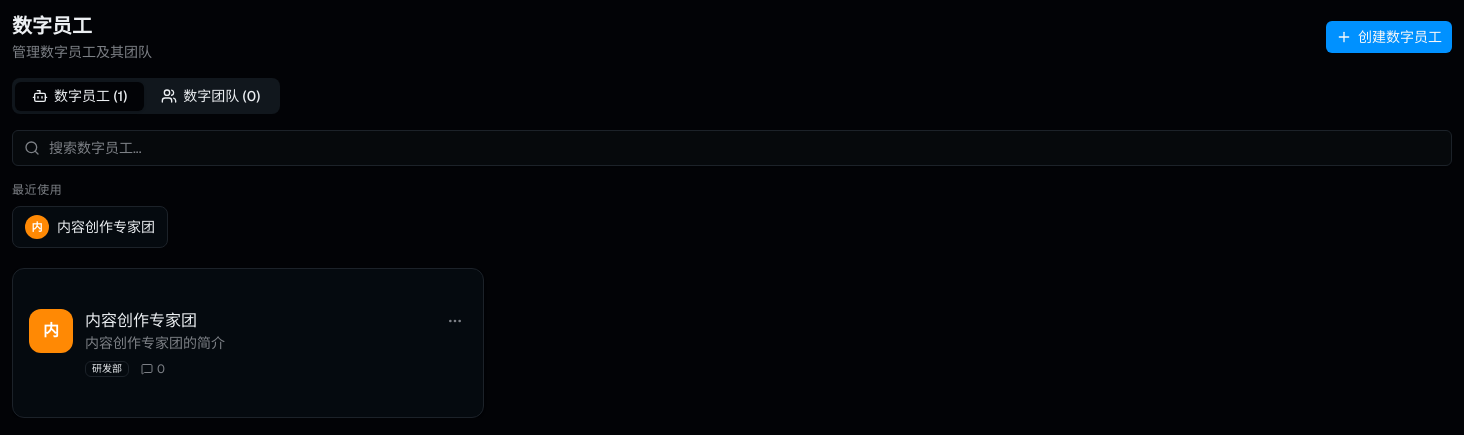
Scenario: DE-1：两个 tab 的归类 › 「数字团队」tab 的计数来自 /api/teams，与 agents 无关
Click the tab "数字团队 (0)".
click(211, 96)  # box [144, 82, 277, 110]
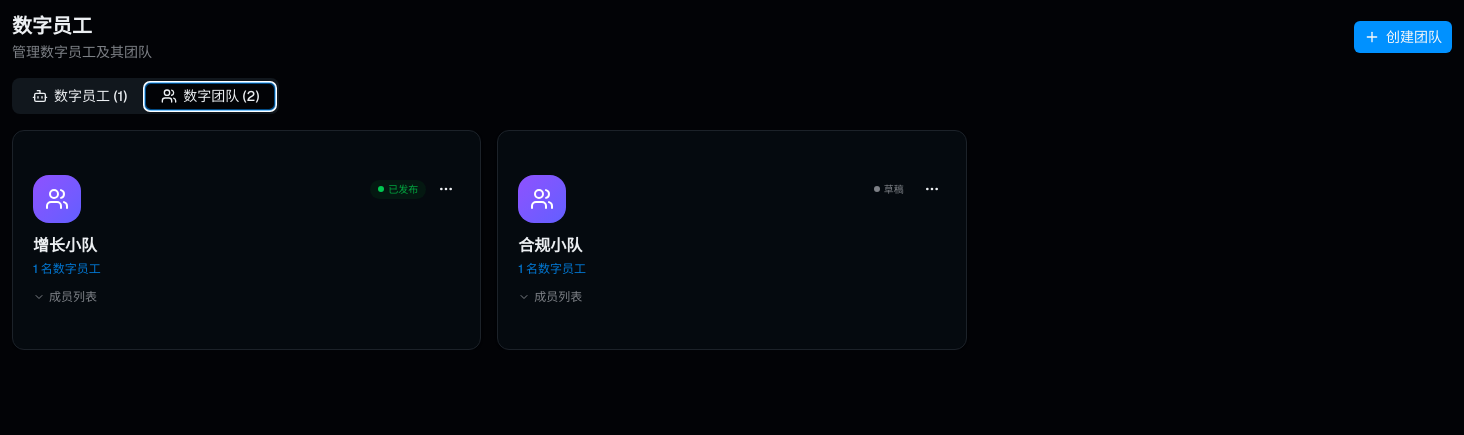
Expected: the tab "数字团队 (2)" is shown, [144, 82, 276, 110]
